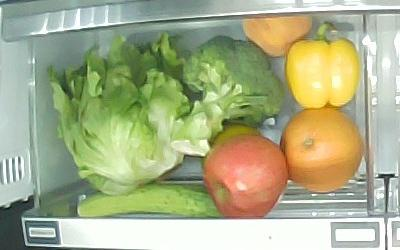apple: (204, 134, 288, 218)
broccoli: (171, 35, 284, 157)
cucumber: (77, 184, 225, 218)
grapefruit: (280, 107, 363, 193)
lettuce: (48, 32, 186, 196)
paprika: (286, 22, 359, 109)
peach: (242, 14, 312, 57)
